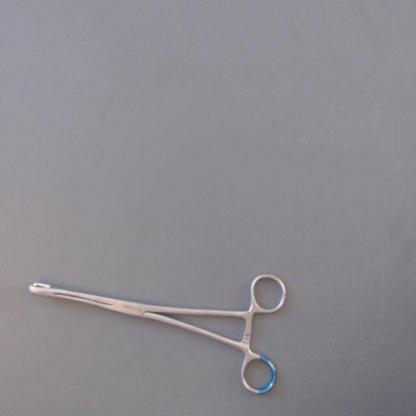Sponge Forceps: (20, 263, 291, 406)
